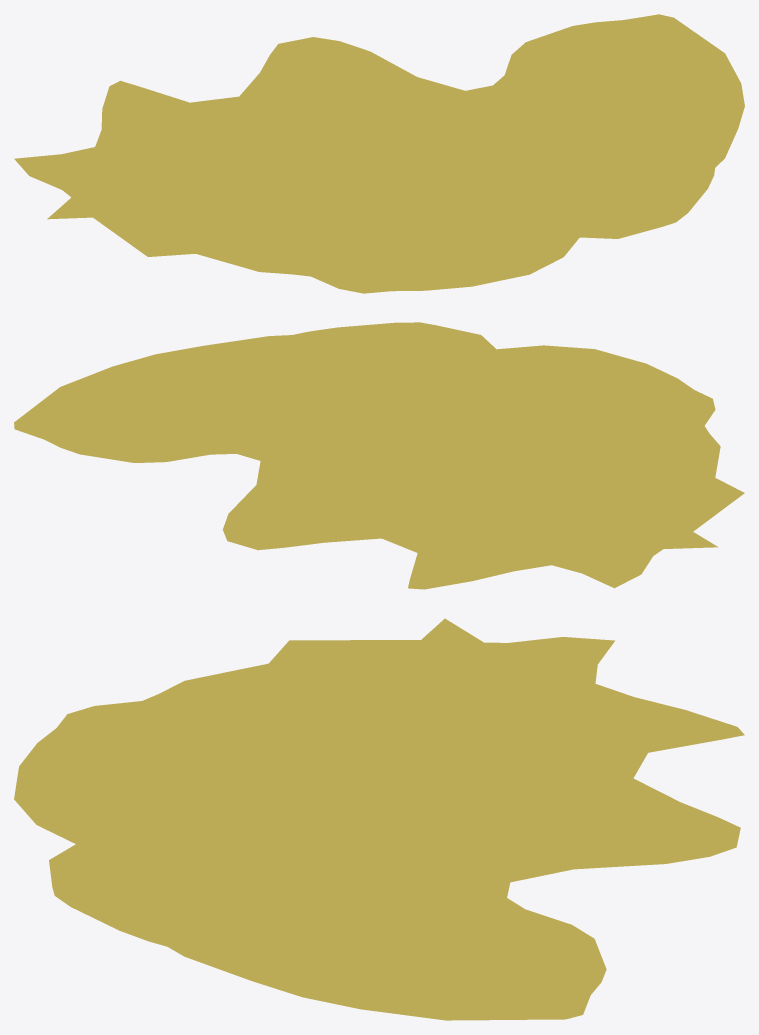
The model's file is Stains.2.fbx.
The picture shows the model from 3 angles, top to bottom: view 1: azimuth 30°, elevation 25°; view 2: azimuth 150°, elevation 25°; view 3: azimuth 270°, elevation 25°; orthographic projection. The views are drawn at different scales.
Parts seen in each view (by area): view 1: Plane; view 2: Plane; view 3: Plane.
Boxes of the visible parts, left/top/right/bottom form: Plane: left=14, top=14, right=744, bottom=293; Plane: left=14, top=322, right=744, bottom=589; Plane: left=14, top=618, right=744, bottom=1020.
Bounding box in the file's own units: 166 × 6.73e-05 × 128.
